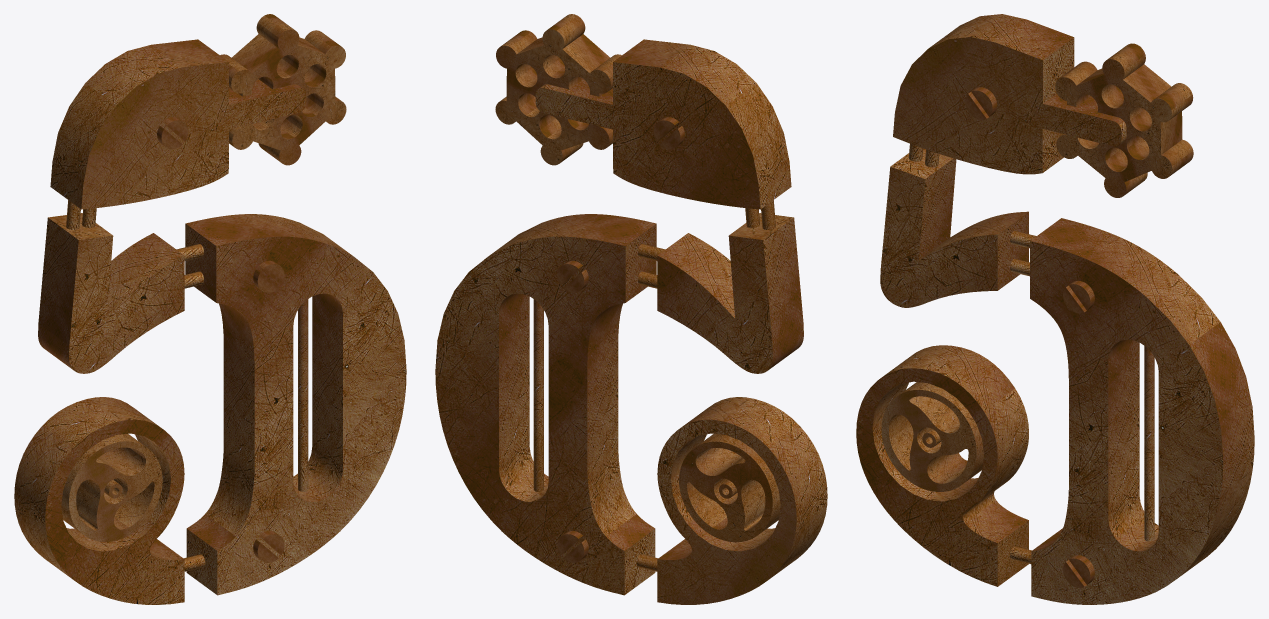
3 views of the same model, side by side, from view 1: azimuth 30°, elevation 25°; view 2: azimuth 150°, elevation 25°; view 3: azimuth 330°, elevation 25° (orthographic).
Parts seen in each view (by area): view 1: 024, C_Elements_017, Cogwheel_243, Tube_570, Screw_704, Screw_705, Screw_710; view 2: 024, C_Elements_017, Cogwheel_243, Tube_570, Screw_704, Screw_705, Screw_710; view 3: 024, C_Elements_017, Cogwheel_243, Tube_570, Screw_704, Screw_705, Screw_710.
Boxes of the visible parts, x1,y1,x2,y2 form: 024: (14, 39, 406, 604); C_Elements_017: (220, 14, 346, 165); Cogwheel_243: (61, 434, 162, 541); Tube_570: (298, 299, 308, 491); Screw_704: (157, 117, 188, 149); Screw_705: (253, 260, 284, 292); Screw_710: (253, 531, 284, 562); 024: (435, 39, 827, 604); C_Elements_017: (495, 14, 621, 165); Cogwheel_243: (679, 434, 780, 542); Tube_570: (533, 299, 543, 491); Screw_704: (653, 117, 684, 149); Screw_705: (557, 260, 588, 292); Screw_710: (557, 531, 588, 562); 024: (856, 14, 1254, 604); C_Elements_017: (1055, 43, 1193, 197); Cogwheel_243: (881, 382, 983, 491); Tube_570: (1144, 346, 1154, 541); Screw_704: (965, 87, 997, 119); Screw_705: (1063, 280, 1094, 313); Screw_710: (1063, 555, 1094, 587).
Bounding box in the file's own units: 67.49 × 97.01 × 12.89.
1 material, 1 textured.
